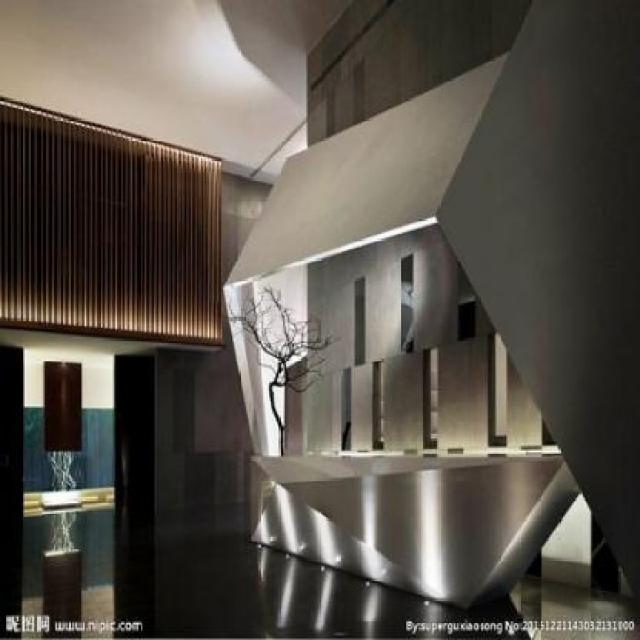frontdesk: (238, 432, 597, 620)
